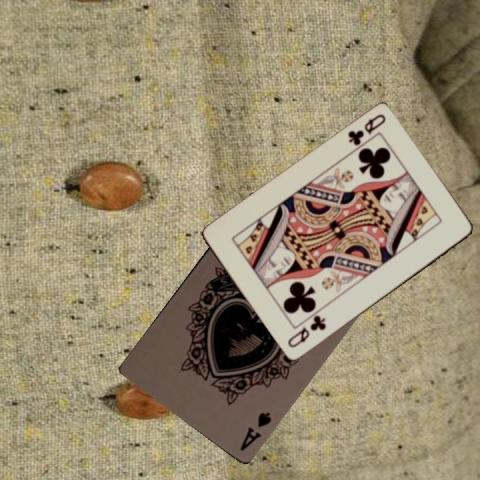As: (237, 408, 273, 452)
Qc: (284, 313, 328, 350), (345, 111, 387, 148)
